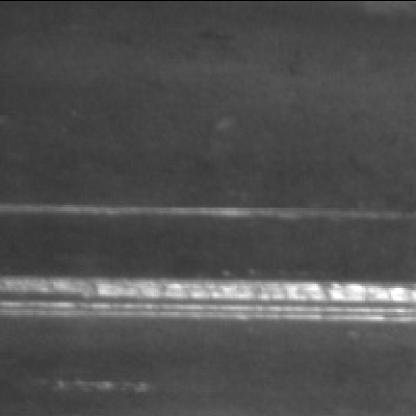scratches: (0, 272, 412, 333), (0, 198, 412, 228)
